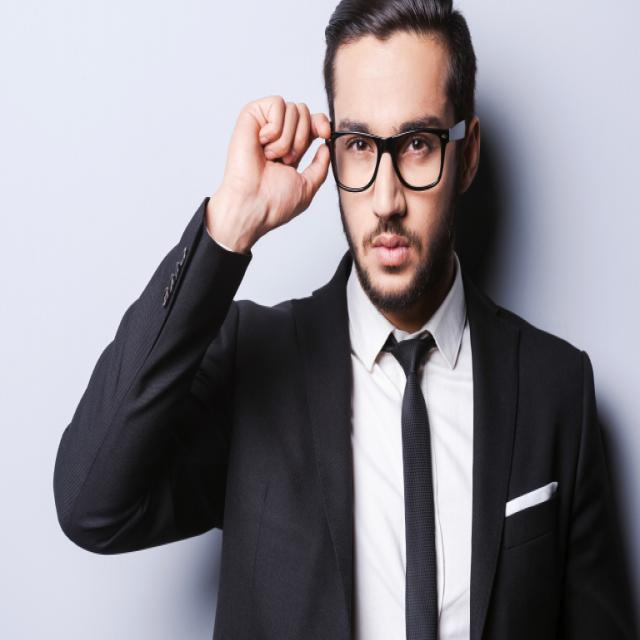Glasses: (326, 120, 465, 193)
